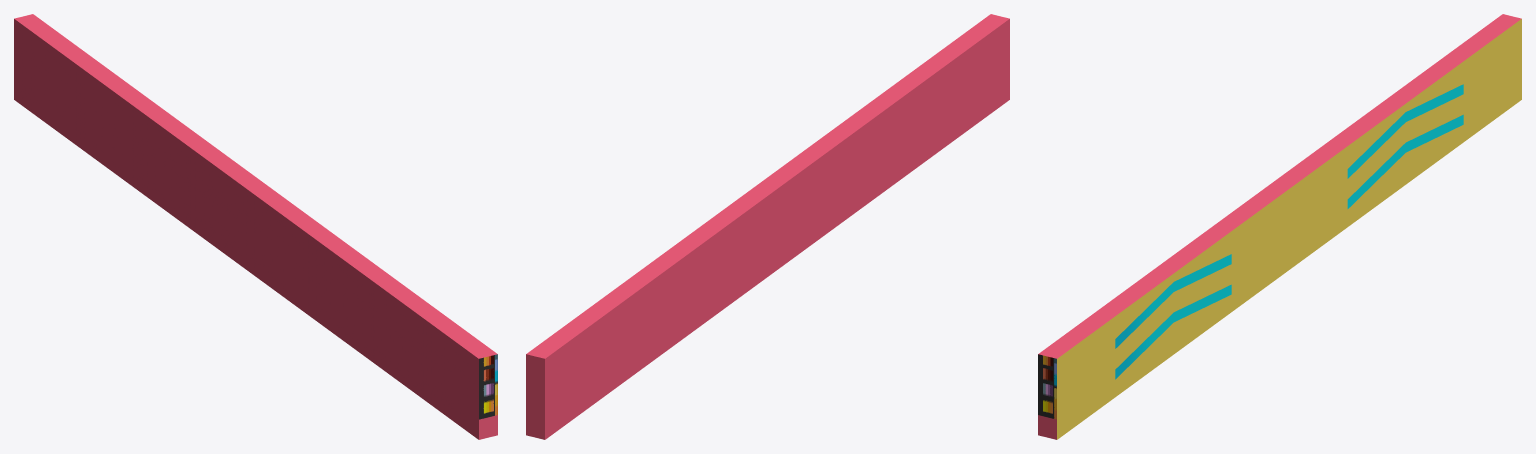
File: starting_gate.glb
The picture shows the model from 3 angles, left to right: view 1: azimuth 30°, elevation 25°; view 2: azimuth 150°, elevation 25°; view 3: azimuth 330°, elevation 25°; orthographic projection.
Visible parts, largest first — view 1: starting_gate; view 2: starting_gate; view 3: starting_gate.
Part boxes in pixels (x1=…): starting_gate: x1=14, y1=14, x2=497, y2=439; starting_gate: x1=526, y1=14, x2=1009, y2=439; starting_gate: x1=1038, y1=14, x2=1521, y2=439.
Size of what is drawn, in the model's own units: 0.333 by 1.35 by 14.05.
Materials: 1 (1 with a texture image).
